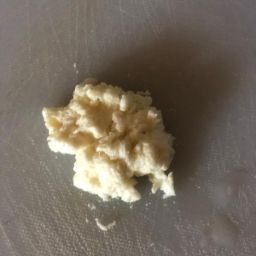Crumbled Feta: (33, 64, 188, 237), (94, 87, 179, 194), (44, 101, 116, 195), (68, 103, 141, 174)
